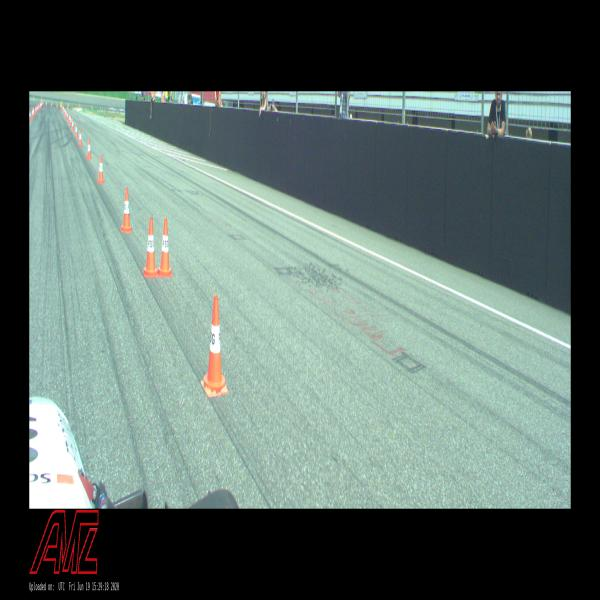orange_cone: (201, 296, 228, 397), (142, 217, 158, 277), (158, 218, 173, 277), (120, 188, 132, 233), (97, 155, 105, 183), (86, 138, 92, 160), (78, 129, 82, 146), (74, 123, 78, 138), (71, 119, 74, 130), (69, 115, 72, 126), (30, 110, 32, 121), (32, 108, 34, 118), (68, 113, 70, 122), (35, 105, 37, 113), (66, 112, 68, 120), (38, 104, 40, 110), (37, 104, 38, 112), (65, 109, 66, 117)
